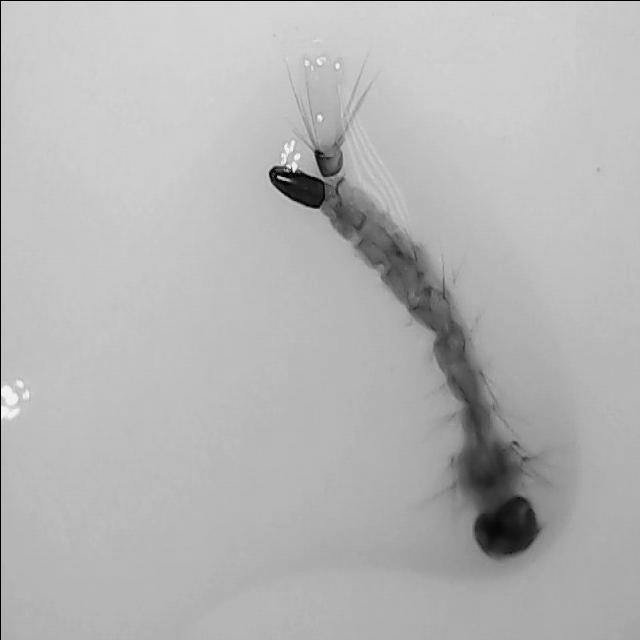larvas: (272, 68, 542, 560)
